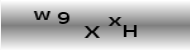9: (55, 11, 70, 25)
H: (122, 23, 138, 39)
X: (81, 24, 100, 40)
w: (32, 9, 50, 22)
x: (107, 15, 122, 27)
